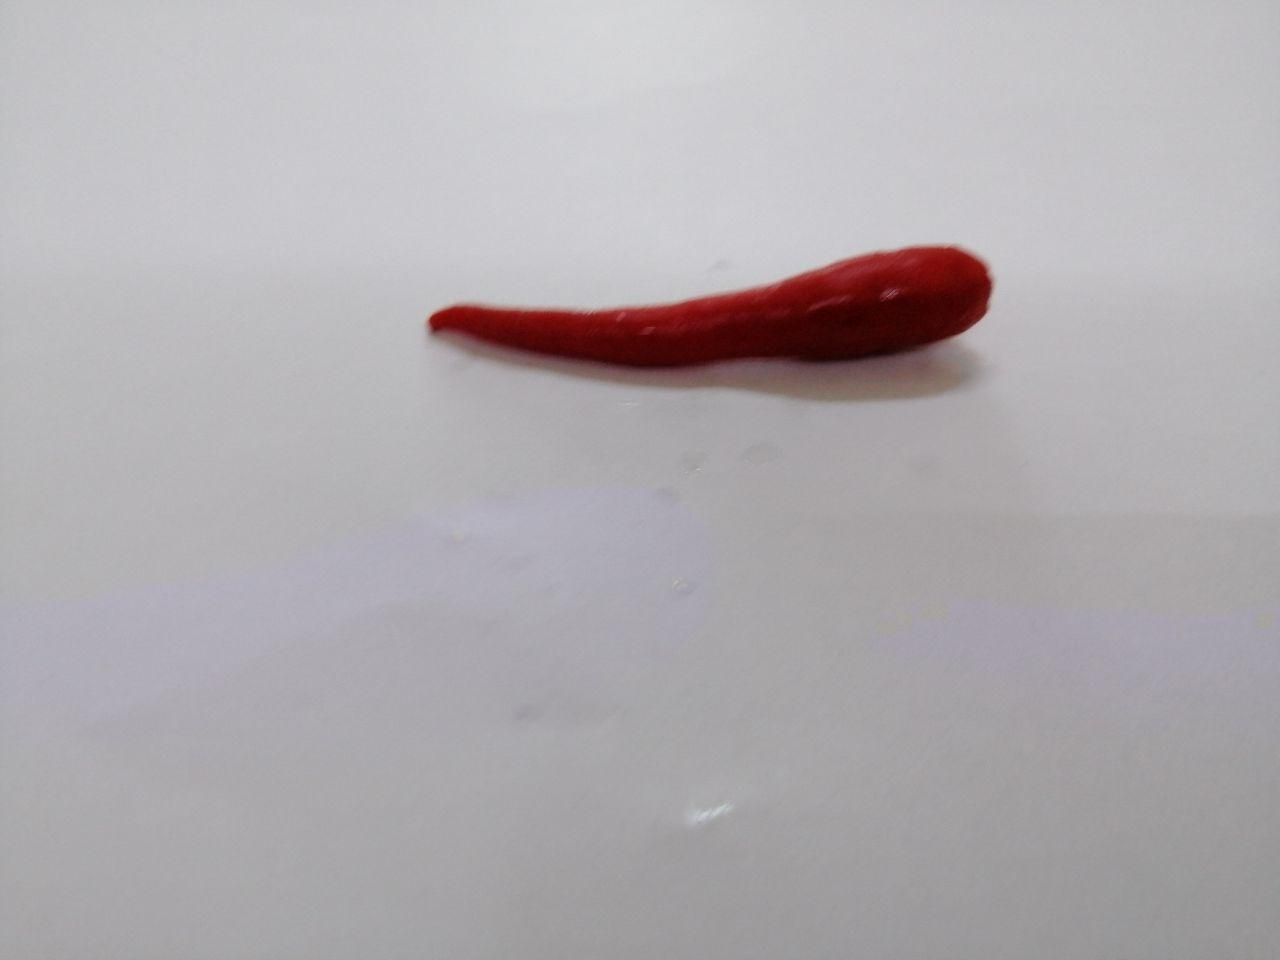lada merah: (394, 224, 1005, 409)
